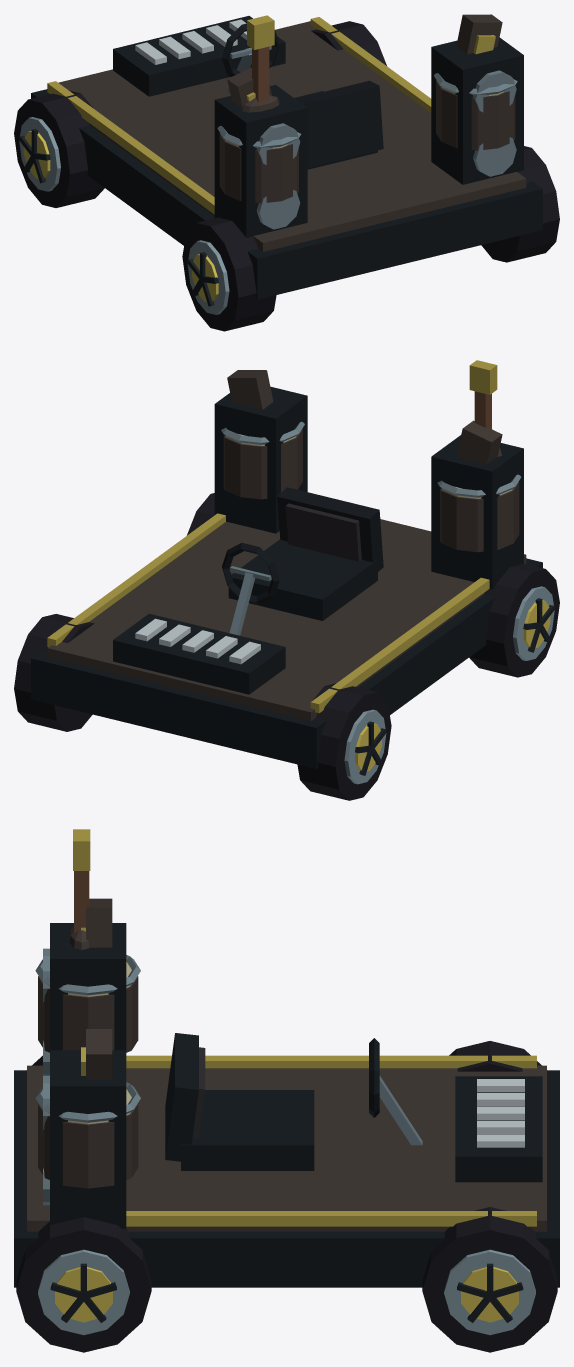
Rendered from kart.glb.
3 views of the same model, one above another, from view 1: azimuth 30°, elevation 25°; view 2: azimuth 150°, elevation 25°; view 3: azimuth 270°, elevation 25° (orthographic). The views are drawn at different scales.
Parts seen in each view (by area): view 1: identity-stage-stage-platform-and-pa-towers, identity-stage-motif-drums, wheel-rear-left, wheel-front-left, identity-stage-driver-cockpit, wheel-rear-right, identity-stage-motif-ears, identity-stage-motif-guitar, wheel-front-right; view 2: identity-stage-stage-platform-and-pa-towers, identity-stage-driver-cockpit, identity-stage-motif-drums, wheel-front-left, wheel-rear-left, wheel-front-right, identity-stage-motif-ears, identity-stage-motif-guitar; view 3: identity-stage-stage-platform-and-pa-towers, identity-stage-driver-cockpit, wheel-front-right, wheel-rear-right, identity-stage-motif-drums, identity-stage-motif-ears, identity-stage-motif-guitar, wheel-front-left.
Boxes of the visible parts, box(x1,y1,x2,y2) form: identity-stage-stage-platform-and-pa-towers: box(31, 16, 542, 299); identity-stage-motif-drums: box(217, 73, 517, 203); wheel-rear-left: box(182, 217, 276, 331); wheel-front-left: box(14, 90, 104, 207); identity-stage-driver-cockpit: box(222, 23, 383, 169); wheel-rear-right: box(481, 146, 559, 262); identity-stage-motif-ears: box(227, 14, 502, 108); identity-stage-motif-guitar: box(242, 15, 279, 112); wheel-front-right: box(311, 21, 386, 65); identity-stage-stage-platform-and-pa-towers: box(31, 386, 542, 768); identity-stage-driver-cockpit: box(222, 487, 383, 635); identity-stage-motif-drums: box(221, 421, 521, 552); wheel-front-left: box(297, 683, 391, 800); wheel-rear-left: box(469, 563, 559, 677); wheel-front-right: box(14, 614, 94, 731); identity-stage-motif-ears: box(227, 370, 502, 464); identity-stage-motif-guitar: box(469, 360, 501, 456); identity-stage-stage-platform-and-pa-towers: box(14, 923, 559, 1287); identity-stage-driver-cockpit: box(165, 1033, 422, 1170); wheel-front-right: box(422, 1207, 557, 1352); wheel-rear-right: box(16, 1217, 151, 1352); identity-stage-motif-drums: box(35, 955, 140, 1188); identity-stage-motif-ears: box(81, 898, 112, 1079); identity-stage-motif-guitar: box(69, 829, 90, 949); wheel-front-left: box(449, 1041, 541, 1071).
Size of the model in its own units: 2.16 by 1.8 by 2.5.
